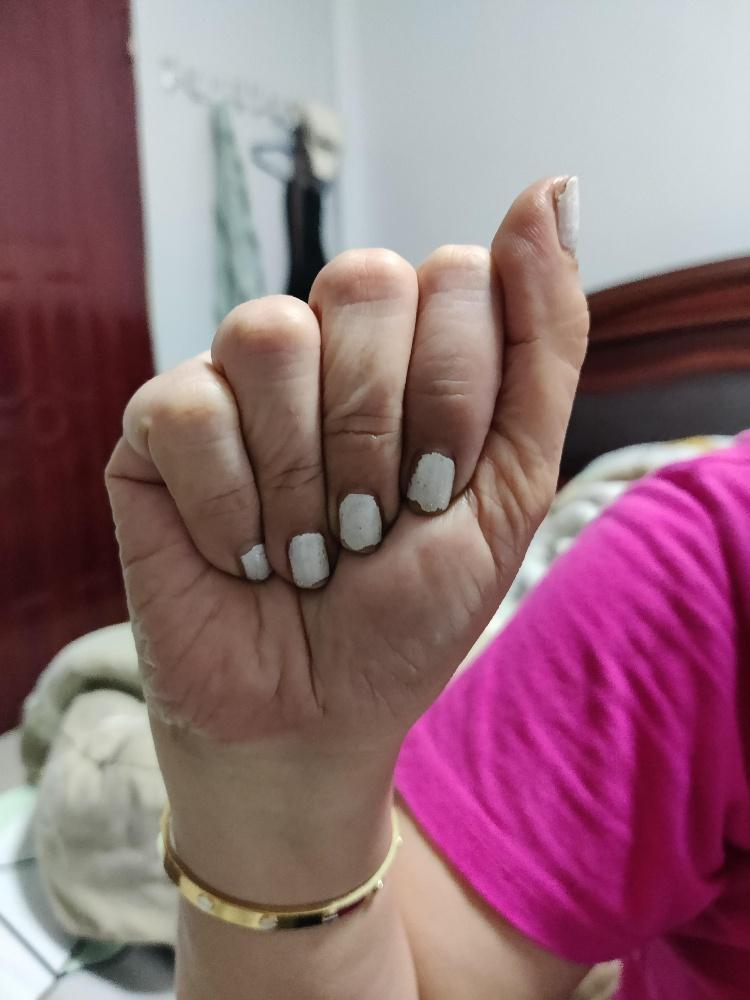a: (101, 169, 593, 739)
